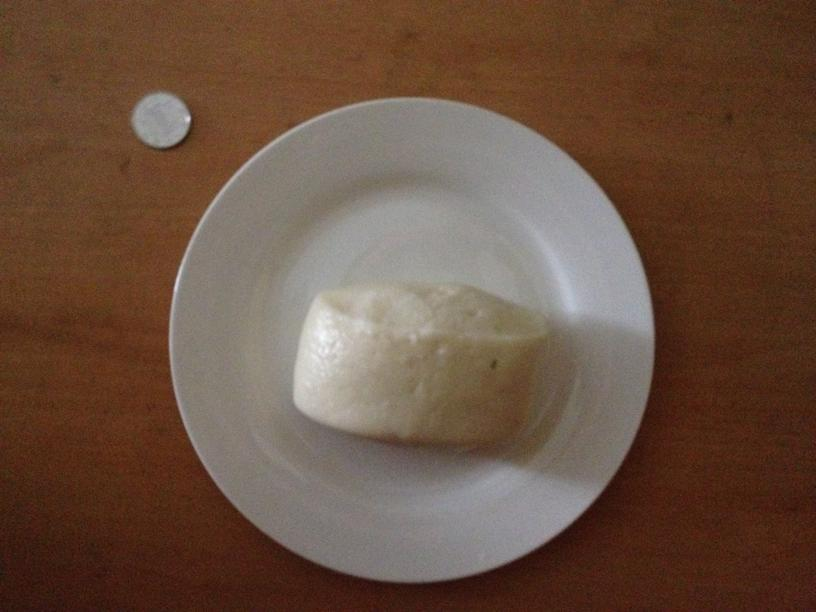bun: (294, 283, 543, 449)
coin: (132, 93, 190, 147)
